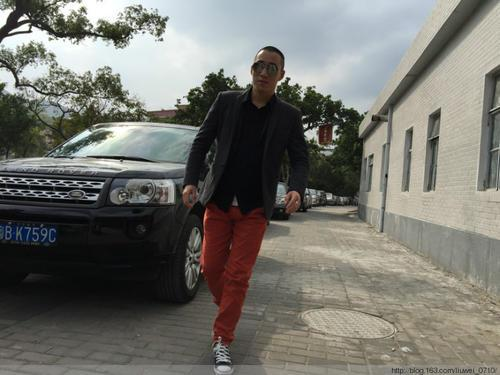up: (172, 42, 311, 375)
